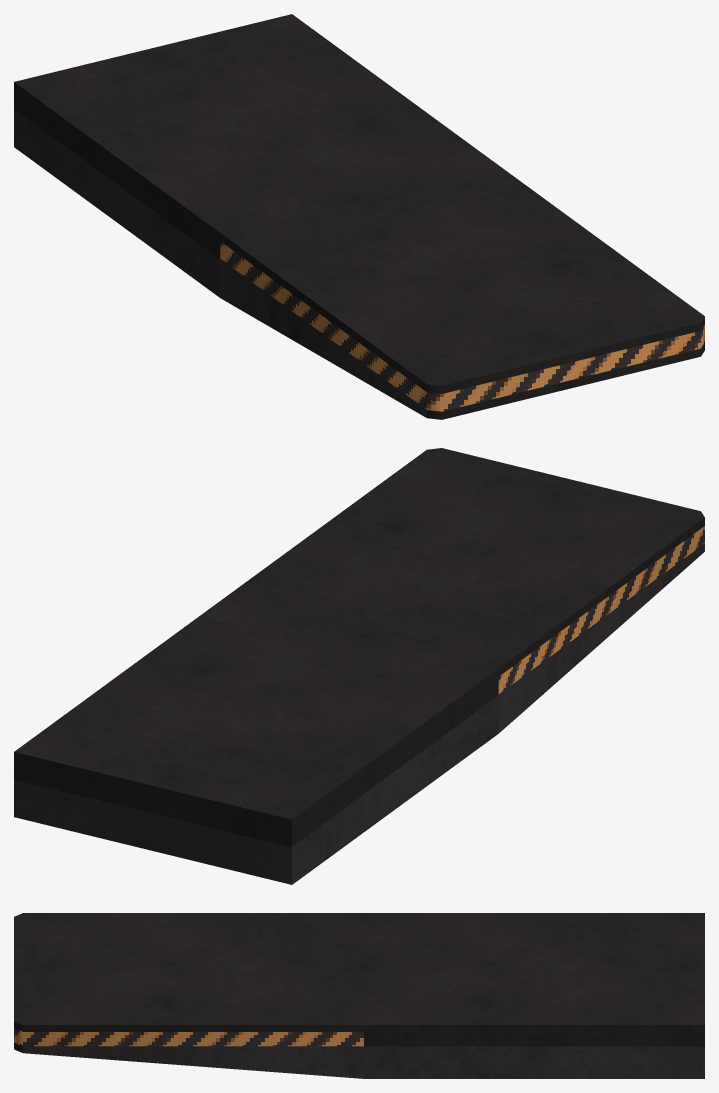
3 renders of one model, top to bottom at view 1: azimuth 30°, elevation 25°; view 2: azimuth 150°, elevation 25°; view 3: azimuth 270°, elevation 25°, orthographic. The views are drawn at different scales.
Parts seen in each view (by area): view 1: 9; view 2: 9; view 3: 9.
Boxes of the visible parts, box(x1,y1,x2,y2) form: 9: box(14, 14, 704, 419); 9: box(14, 448, 704, 884); 9: box(14, 913, 704, 1078).
Bounding box in the file's own units: 2 × 0.4481 × 5.21.
1 material, 1 textured.
